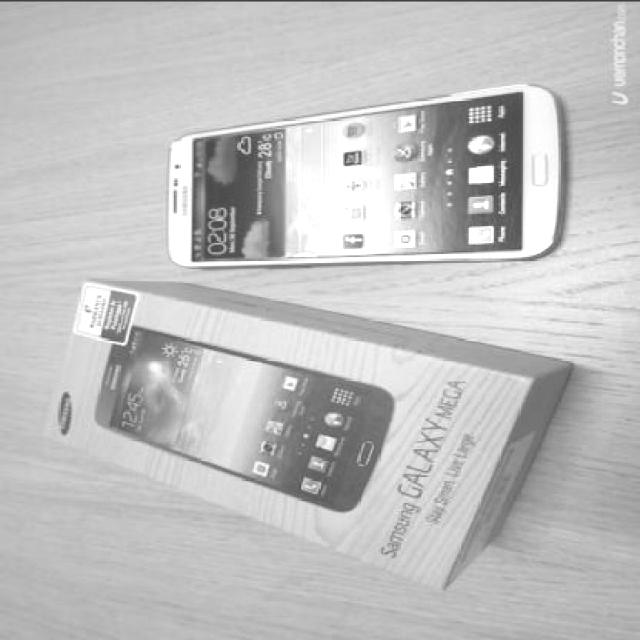fake: (166, 82, 572, 270), (92, 319, 390, 510)
